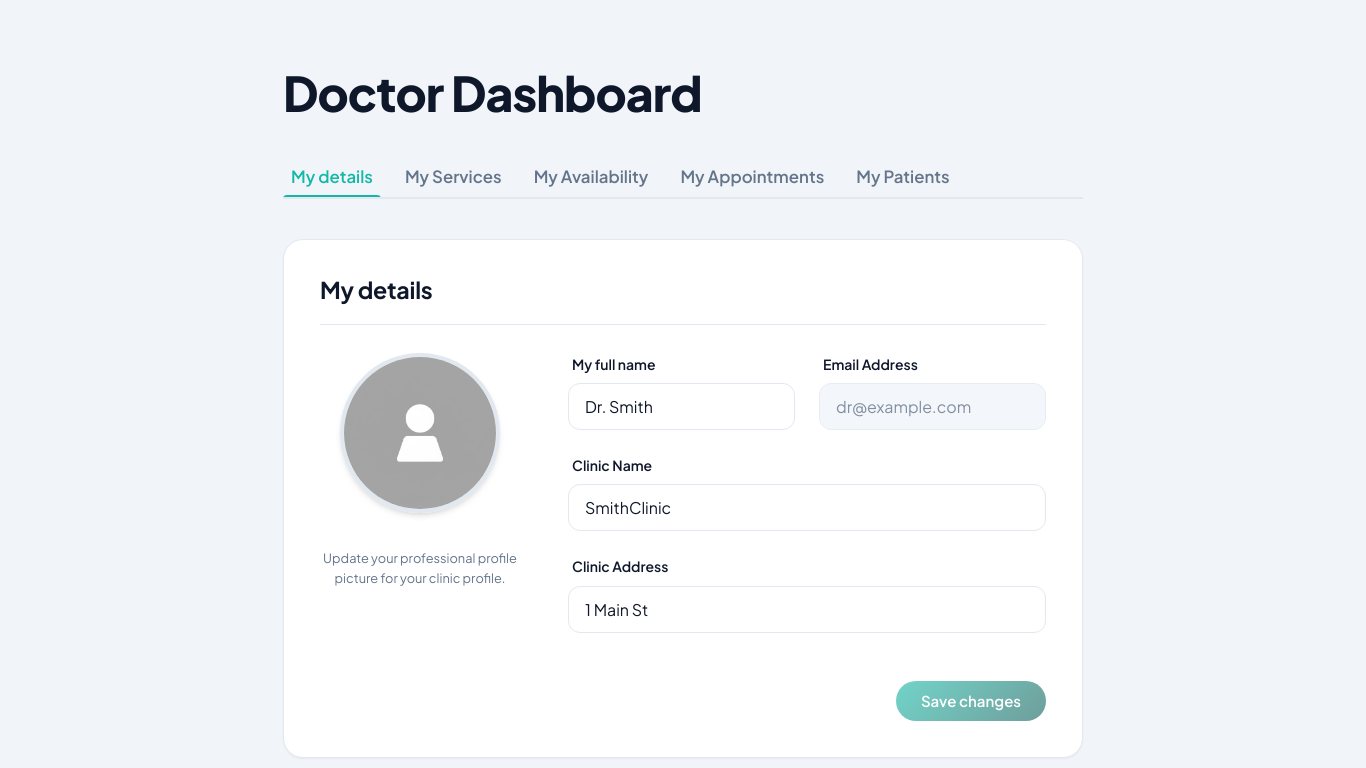
it: DoctorDashboardPage › clicking Manage Availability opens the availability modal
The width and height of the screenshot is (1366, 768).
Click the button "My Availability".
click(591, 176)  # box [526, 154, 656, 199]
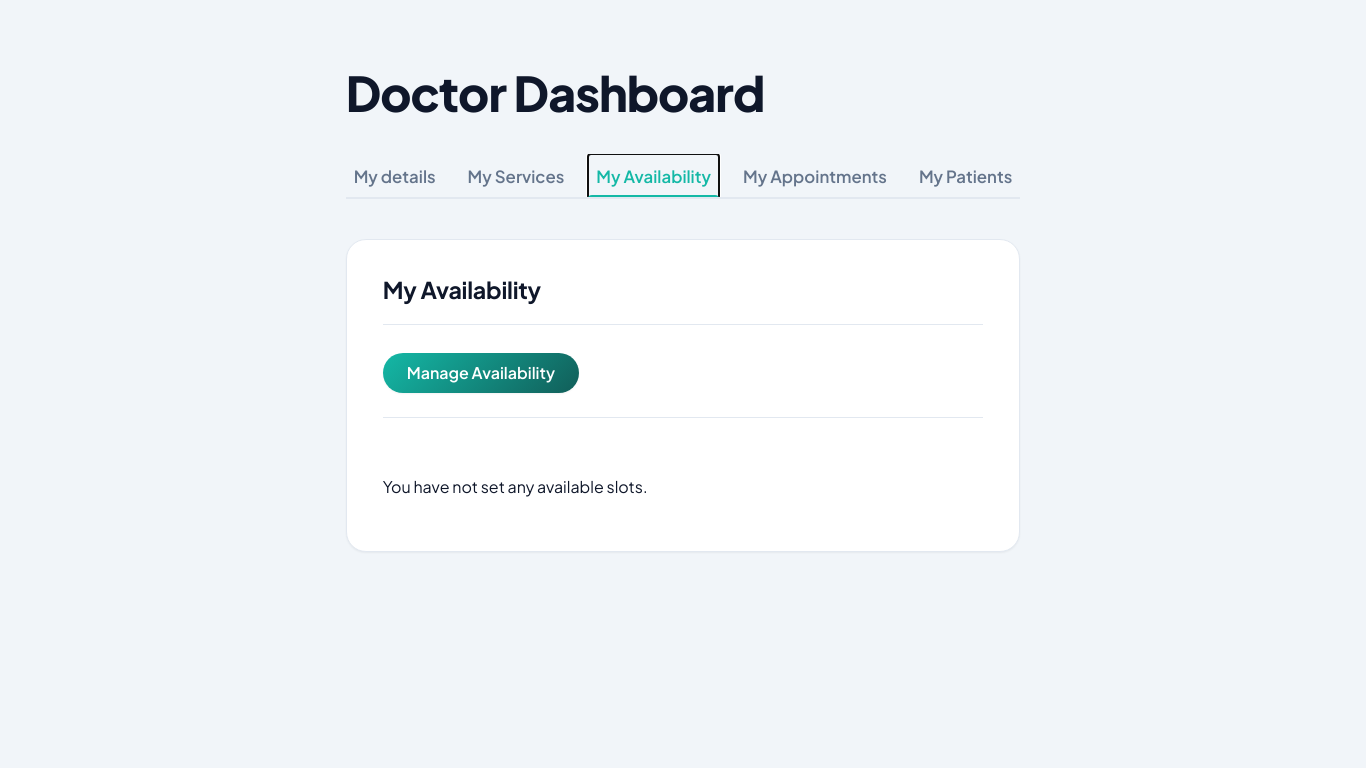
Click the button "Manage Availability".
click(481, 373)  # box [383, 353, 579, 393]
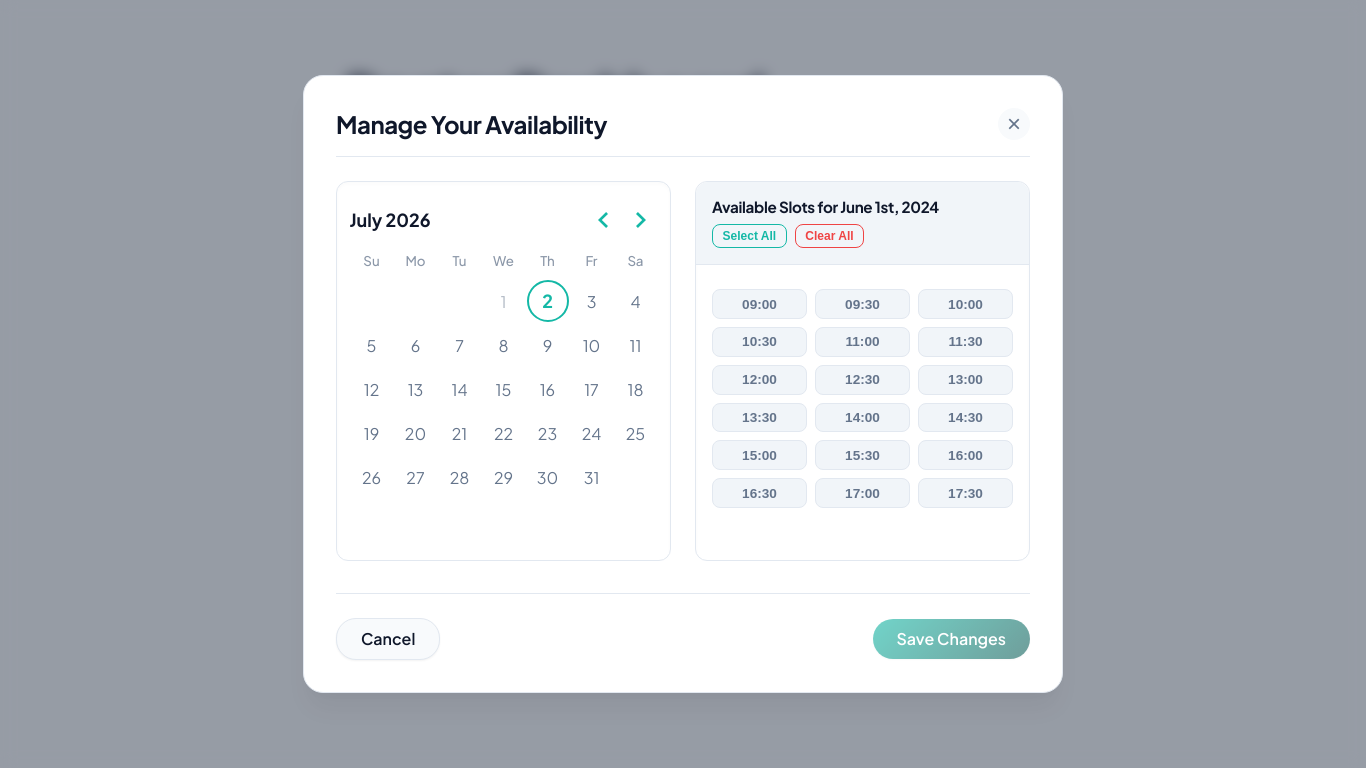
Now the heading "Manage Your Availability" is shown, box [336, 110, 607, 138]
